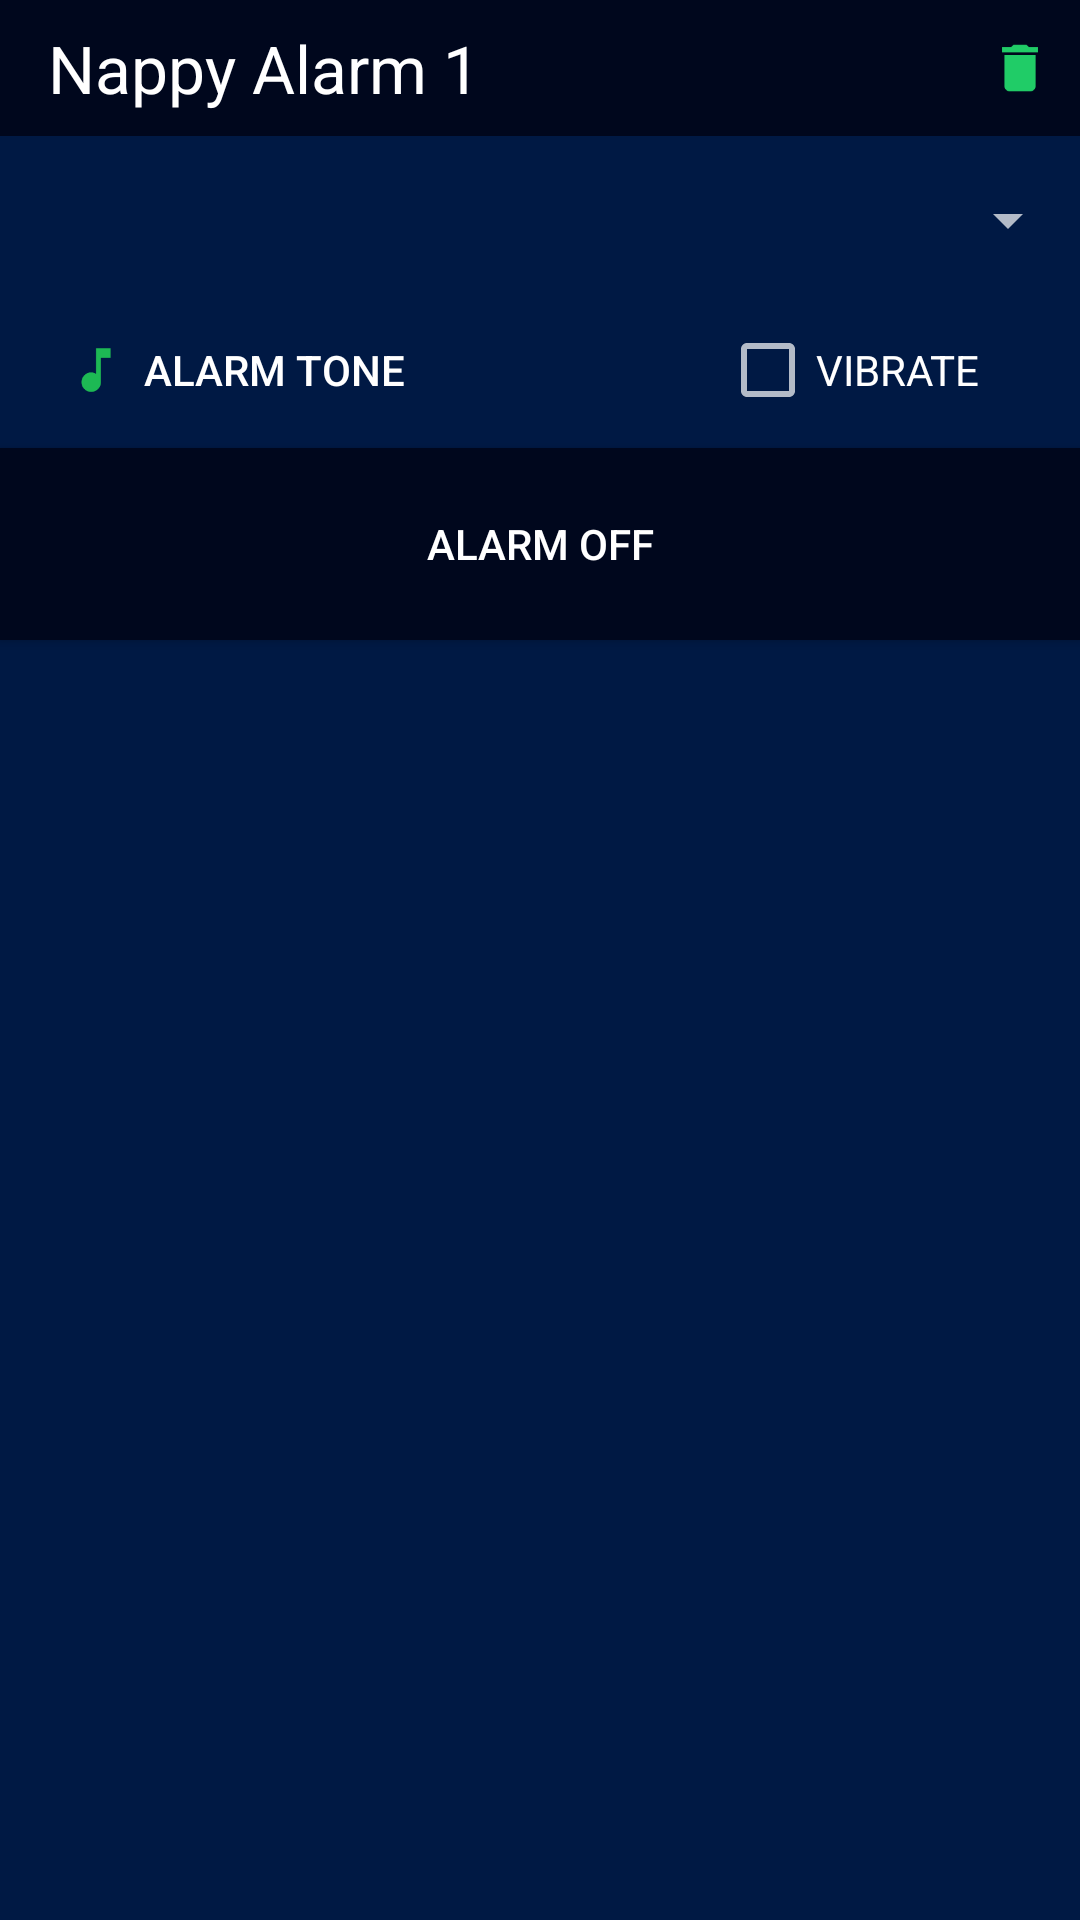

Icons on this 1080 x 1920 Android screen, each with the point to tap as (x=x, y=y):
delete alarm: (x=1020, y=68)
